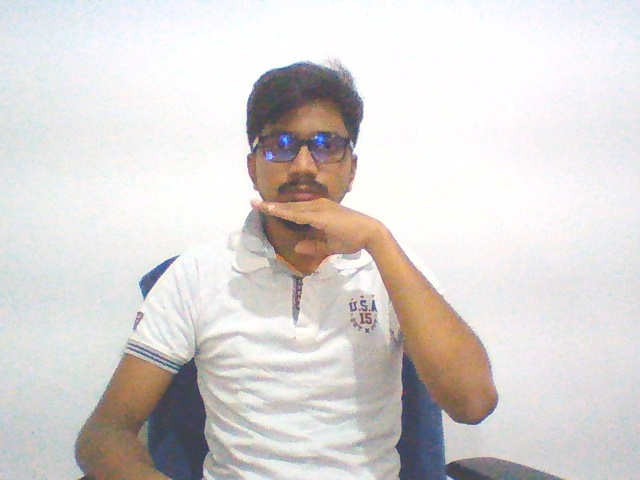elephant: (245, 189, 387, 260)
